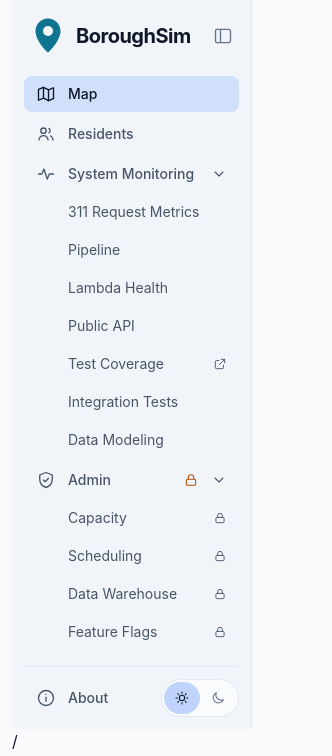
Test case: Sidebar menu › collapses and re-expands the monitoring accordion, listing its seven items
The width and height of the screenshot is (332, 756).
Step 1. Click the button "System Monitoring" → (132, 174), box [24, 156, 239, 192]
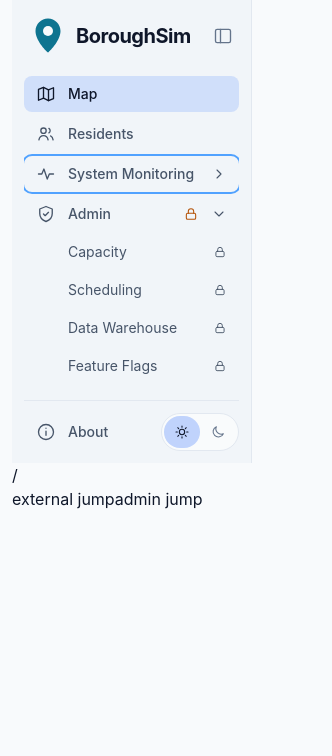
Result: the button "System Monitoring" is collapsed
Step 2. Click the button "System Monitoring" → (132, 174), box [24, 156, 239, 192]
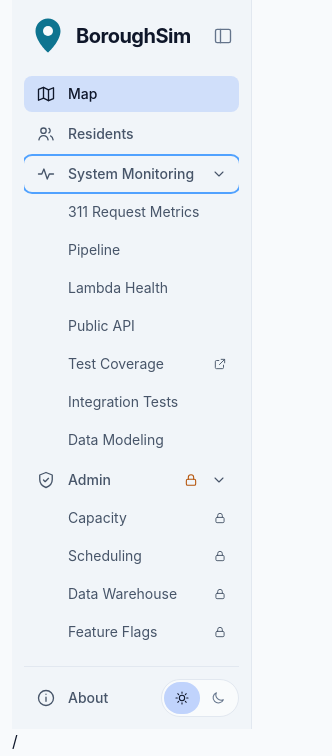
Result: the button "System Monitoring" is expanded at [24, 156, 239, 192]
